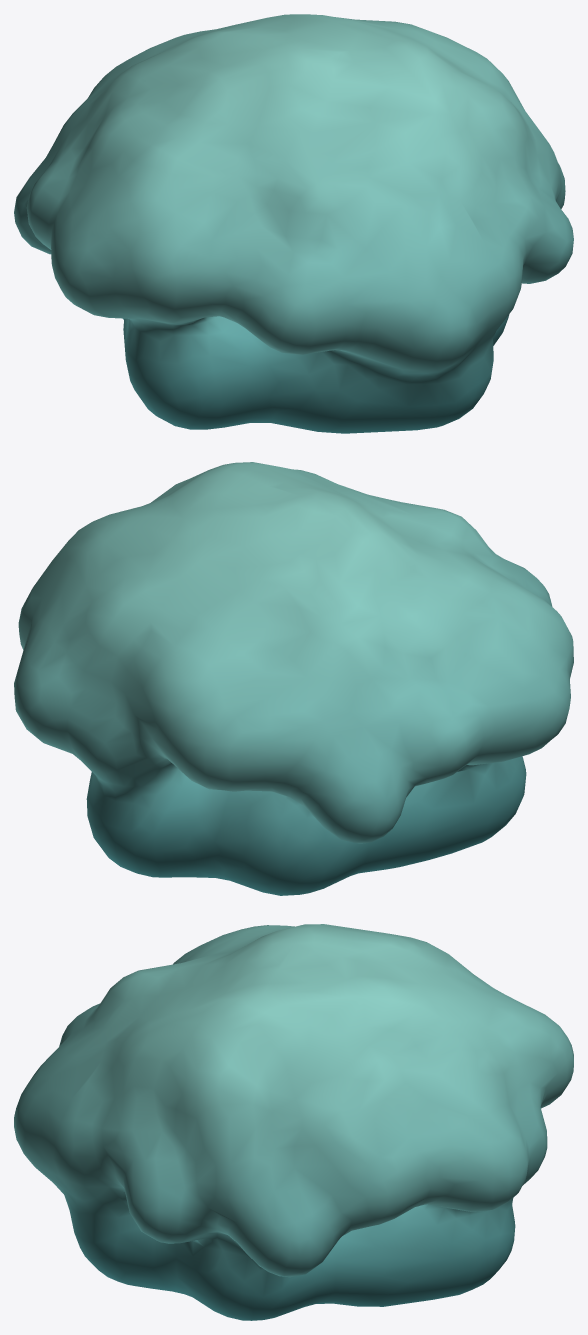
Rendered from brain_teal.glb.
3 views of the same model, one above another, from view 1: azimuth 30°, elevation 25°; view 2: azimuth 150°, elevation 25°; view 3: azimuth 270°, elevation 25° (orthographic). The views are drawn at different scales.
Parts seen in each view (by area): view 1: world; view 2: world; view 3: world.
Boxes of the visible parts, x1,y1,x2,y2 form: world: [14, 14, 573, 433]; world: [14, 462, 573, 895]; world: [14, 924, 573, 1320].
Bounding box in the file's own units: 0.9765 × 0.633 × 0.9726.
